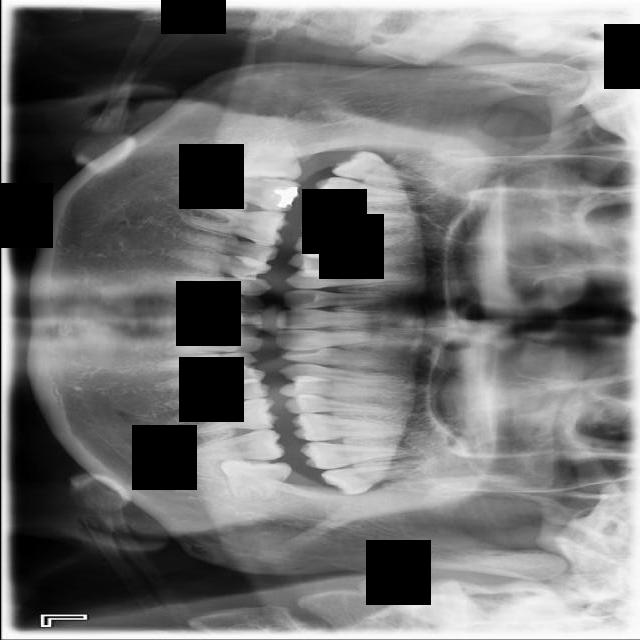3M ESPE Implant: (331, 146, 434, 193)
52: (272, 186, 300, 209), (300, 219, 325, 238)
73: (73, 596, 76, 606)
BioHorizons Implant: (298, 440, 410, 476)
BioLife Implant: (319, 461, 420, 498)
Biomet 3i Implant: (219, 458, 292, 501)
Blue Sky Bio Implant: (181, 429, 284, 461)
Caries: (306, 174, 419, 206)
Implant: (207, 171, 301, 214)
Keystone Dental Implant: (229, 136, 302, 182)
